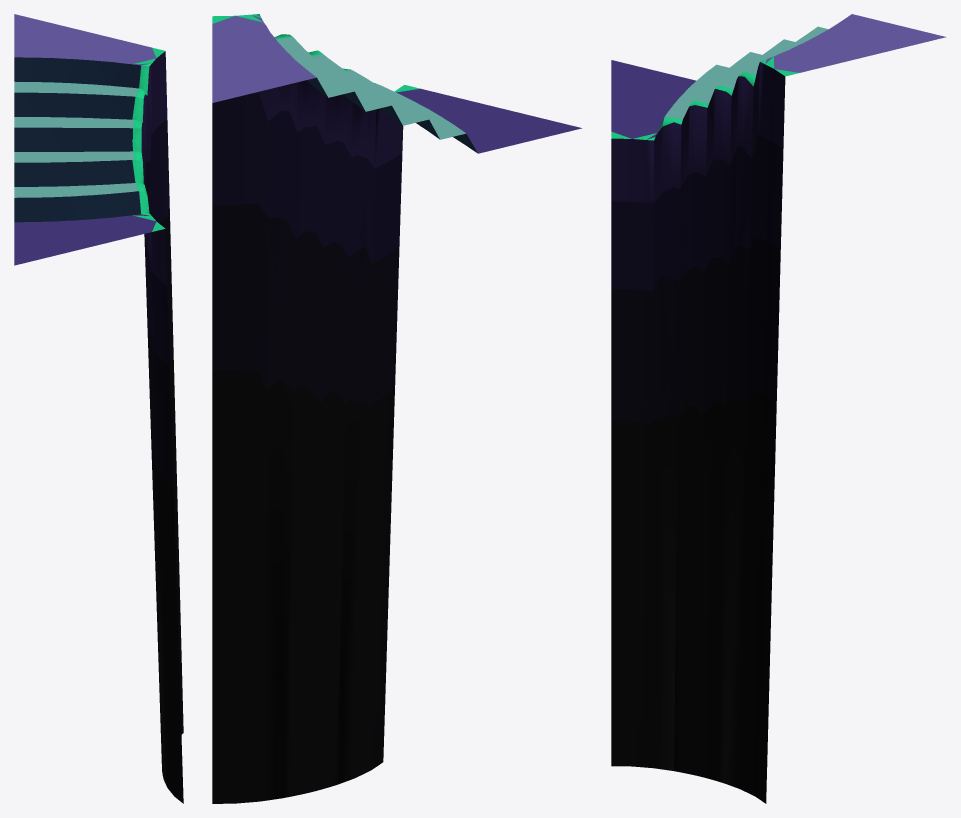
File: MODULE_ALIEN_RIM_STEP_2_STAIRS.fbx
The picture shows the model from 3 angles, left to right: view 1: azimuth 30°, elevation 25°; view 2: azimuth 150°, elevation 25°; view 3: azimuth 270°, elevation 25°; orthographic projection. The views are drawn at different scales.
Visible parts, largest first — view 1: MODULE_ALIEN_RIM_STEP_2_STAIRS__export; view 2: MODULE_ALIEN_RIM_STEP_2_STAIRS__export; view 3: MODULE_ALIEN_RIM_STEP_2_STAIRS__export.
Boxes of the visible parts, x1,y1,x2,y2 form: MODULE_ALIEN_RIM_STEP_2_STAIRS__export: (14, 14, 183, 803); MODULE_ALIEN_RIM_STEP_2_STAIRS__export: (212, 14, 581, 803); MODULE_ALIEN_RIM_STEP_2_STAIRS__export: (611, 14, 946, 803).
Bounding box in the file's own units: 76.91 × 206 × 86.6.
